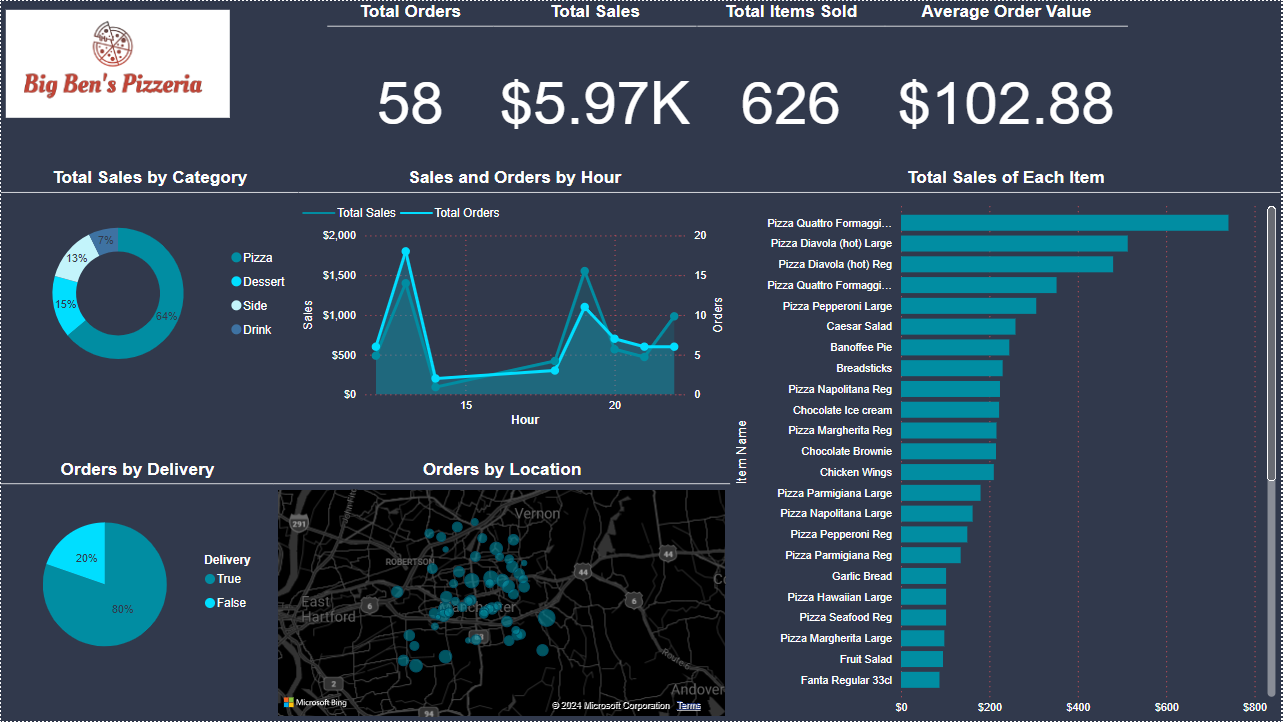

The dashboard page shown, as its layout file describes it:
{"tool":"powerbi","page":{"name":"Orders","canvas":[1280,720],"ordinal":0},"visuals":[{"type":"card","title":"Total Orders","fields":{"Values":["Count(Orders Data.order_id)"]},"box":[326.5,0,166.2,166.2],"z":0},{"type":"card","title":"Total Sales","fields":{"Values":["Sum(Orders Data.total_sales)"]},"box":[492.8,0,203,166.2],"z":1000},{"type":"card","title":"Total Items Sold","fields":{"Values":["Sum(Orders Data.quantity)"]},"box":[695.8,0,187.6,166.2],"z":2000},{"type":"card","title":"Average Order Value","fields":{"Values":["Orders Data.avg_order_value"]},"box":[883.4,0,243.4,166.2],"z":3000},{"type":"donutChart","title":"Total Sales by Category","fields":{"Category":["Orders Data.item_cat"],"Y":["Sum(Orders Data.total_sales)"]},"box":[0,166.2,297.5,225],"z":4000},{"type":"clusteredBarChart","title":"Total Sales of Each Item","fields":{"Category":["Orders Data.item_name"],"Y":["Sum(Orders Data.total_sales)"]},"box":[730.2,166.2,549.7,553.3],"z":5000},{"type":"lineChart","title":"Sales and Orders by Hour","fields":{"Y":["Sum(Orders Data.total_sales)"],"Y2":["Count(Orders Data.order_id)"],"Category":["Orders Data.Hour"]},"box":[297.5,166.2,432.5,262.5],"z":6000},{"type":"pieChart","title":"Orders by Delivery","fields":{"Category":["Orders Data.delivery"],"Y":["Count(Orders Data.order_id)"]},"box":[0,457.1,273.1,224.4],"z":7000},{"type":"map","title":"Orders by Location","fields":{"Category":["Orders Data.complete_address"],"Size":["CountNonNull(Orders Data.order_id)"]},"box":[273.1,457.1,457.1,262.4],"z":8000},{"type":"image","box":[0,0,233.8,125],"z":9000}]}

Visuals, with their boxes in screenshot pixels (x1, y1, x2, y2), scaled from the page's 1280x720 canvas onto the 1283x722 screenshot:
"Total Orders" card: left=327, top=0, right=494, bottom=167
"Total Sales" card: left=494, top=0, right=697, bottom=167
"Total Items Sold" card: left=697, top=0, right=885, bottom=167
"Average Order Value" card: left=885, top=0, right=1129, bottom=167
"Total Sales by Category" donutChart: left=0, top=167, right=298, bottom=392
"Total Sales of Each Item" clusteredBarChart: left=732, top=167, right=1282, bottom=721
"Sales and Orders by Hour" lineChart: left=298, top=167, right=732, bottom=430
"Orders by Delivery" pieChart: left=0, top=458, right=274, bottom=683
"Orders by Location" map: left=274, top=458, right=732, bottom=721
image: left=0, top=0, right=234, bottom=125
